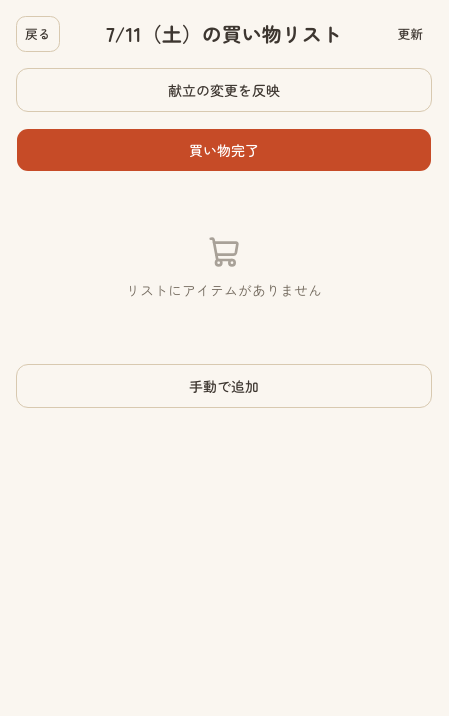
ShoppingListClient（表示・手動追加・再取得） › LC-10: 手動追加が失敗するとエラー表示され一覧は変化しない
The width and height of the screenshot is (449, 716).
Click the button "手動で追加" at [224, 386], box [16,364,432,408]
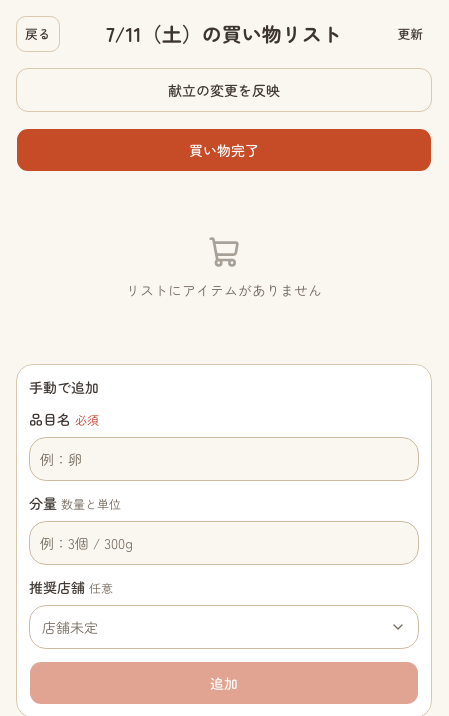
Type "卵" into the field labelled "品目名" at [224, 459], box [29,437,419,481]
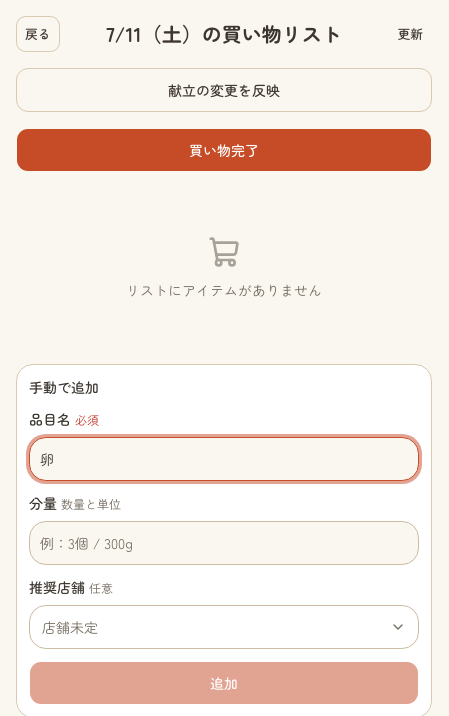
Type "1個" into the field labelled "分量" at [224, 543], box [29,521,419,565]
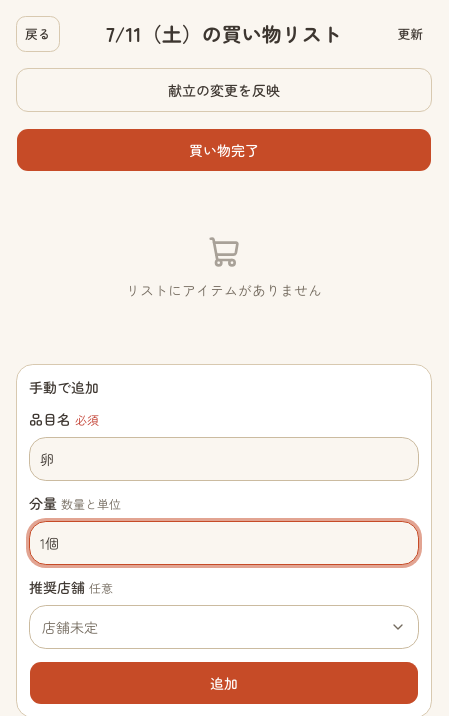
Click the button "追加" at [224, 683], box [29,661,419,705]
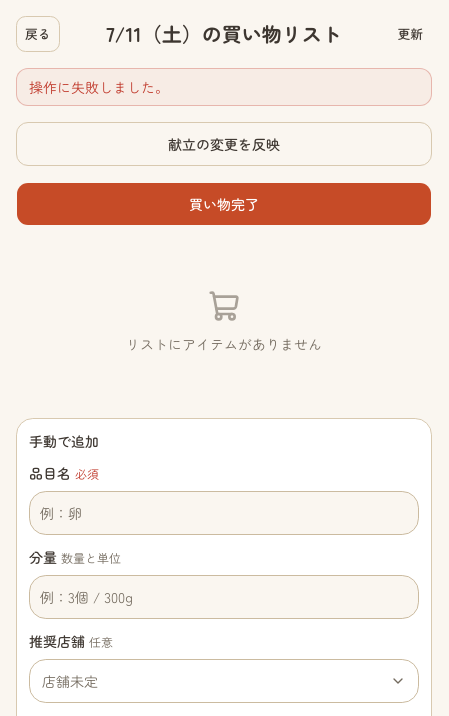
Check: the text "操作に失敗しました。" is shown, box [16,68,432,106]
